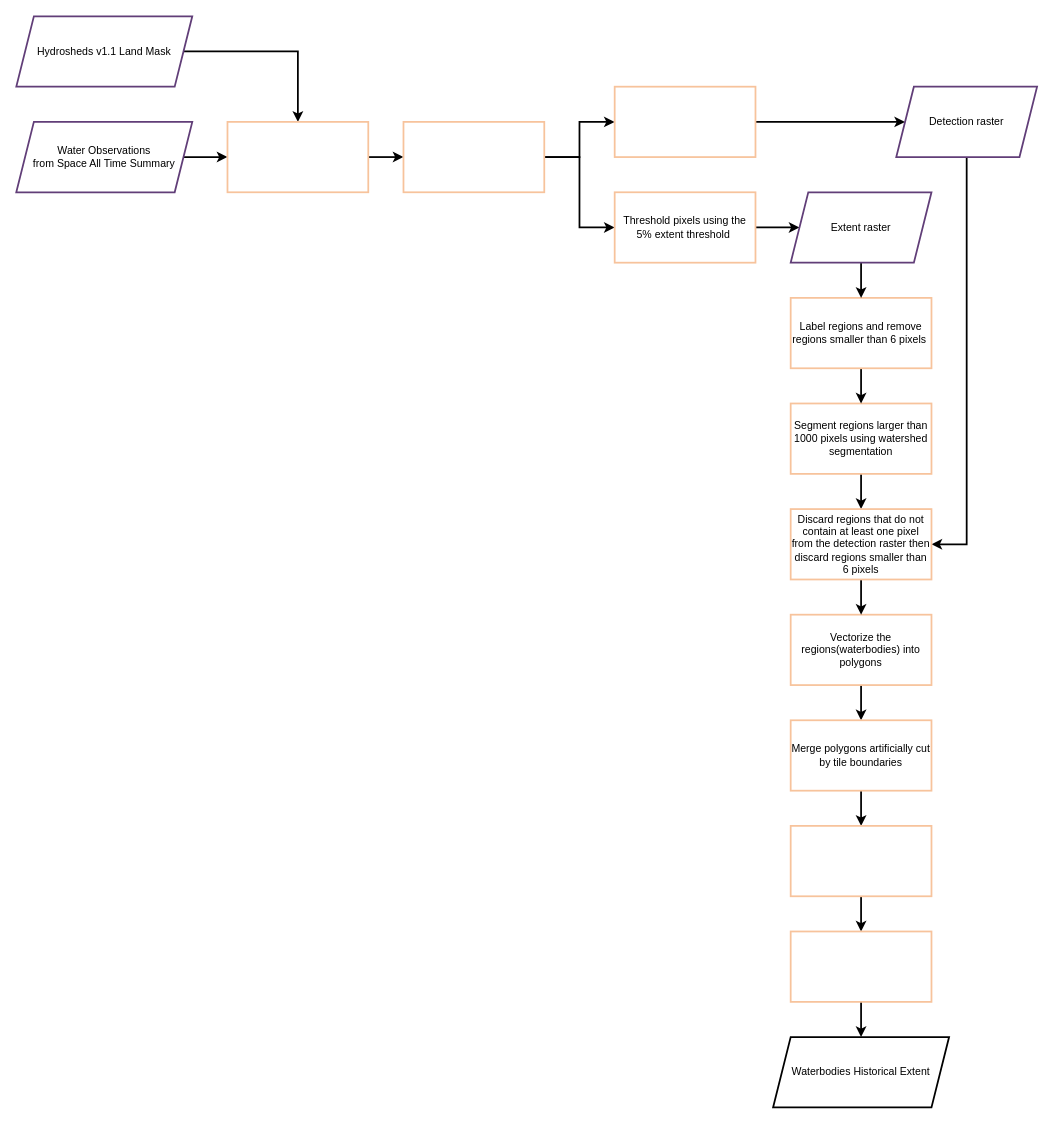
Image size: 1052x1123. Some labels were removed from this diagram. Here are the shapes that lost their labels. From the top down, the centre of each, then its label:
At [684,121]: "Threshold pixels using the 10% detection threshold".
At [297,157]: "Mask ocean and sea pixels in the WOfS All Time Summary datasets".
At [473,157]: "Mask pixels that have been observed < 60 times".
At [860,861]: "Filter polygons by max and min area and max length".
At [860,966]: "Generate a geohash ID for each polygon".
